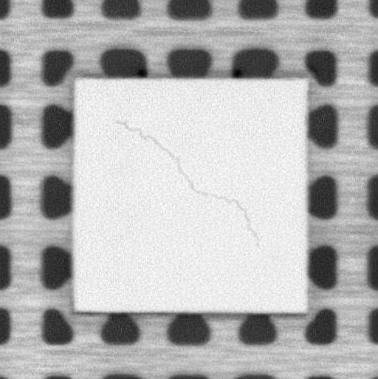DIE_CRACK: (115, 118, 255, 238)
